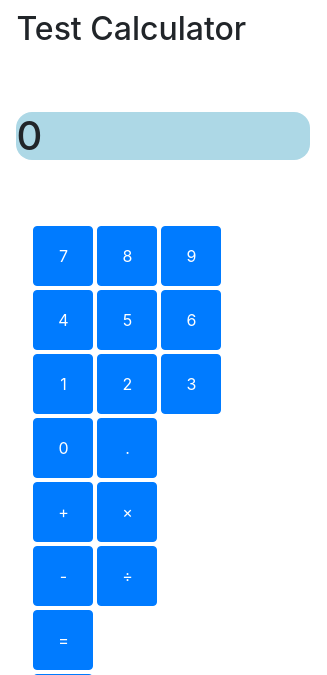
Fringe case button presses › pressing ., 5, displays 0.5
Click the button ".". click: click(127, 448)
box: [97, 418, 157, 478]
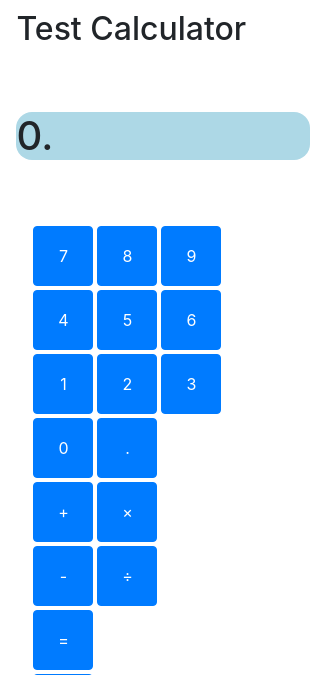
Click the button "5". click: click(127, 320)
box: [97, 290, 157, 350]
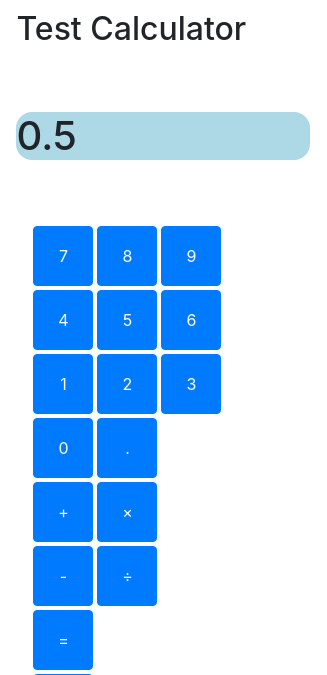
Now the heading with test id "display" reads "0.5", box [16, 111, 77, 160]
